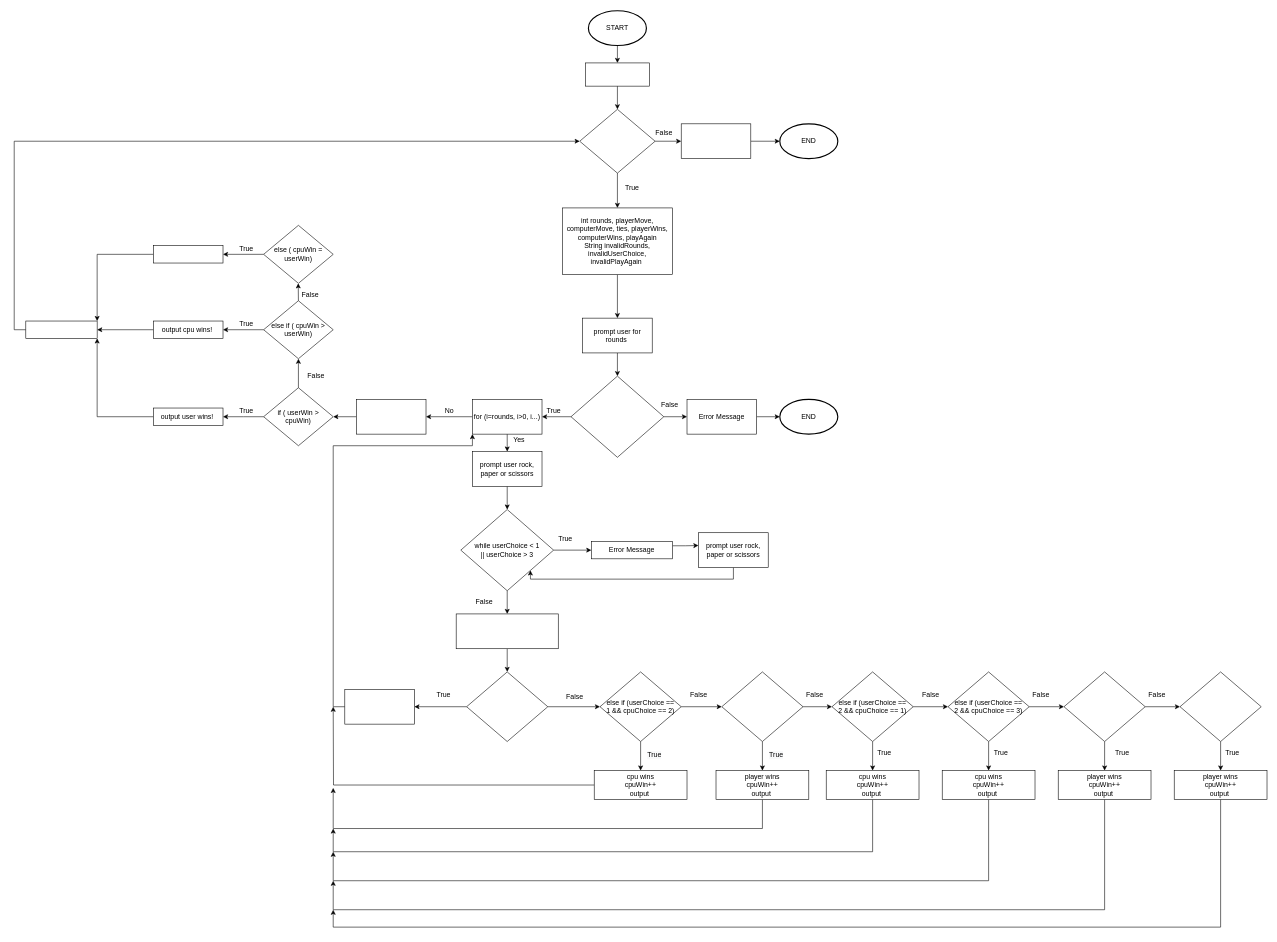
The diagram is 1277 pixels wide and 942 high, and some of its shapes have lost their labels. Each missing label, with the box of its shape:
CPU chooses 1/2/3 (rGen) store as cpuChoice: (456, 613, 558, 649)
else if (userChoice == 1 && cpuChoice == 3): (721, 671, 803, 742)
else if (userChoice == 3 && cpuChoice == 1): (1063, 671, 1145, 742)
else if (userChoice == 3 && cpuChoice == 2): (1179, 671, 1261, 742)
if (userChoice == cpuChoice): (466, 671, 548, 742)
if numberOfRounds <= 10: (570, 376, 664, 457)
int playAgain = 1: (585, 62, 649, 86)
output tie: (153, 245, 223, 263)
output ties, userWin, cpuWin: (356, 399, 426, 434)
prompt user play again?: (25, 320, 97, 338)
Thanks for playing: (681, 123, 751, 159)
Tie Store as ties output: (344, 689, 414, 724)
while playAgain == 1: (579, 109, 655, 173)
